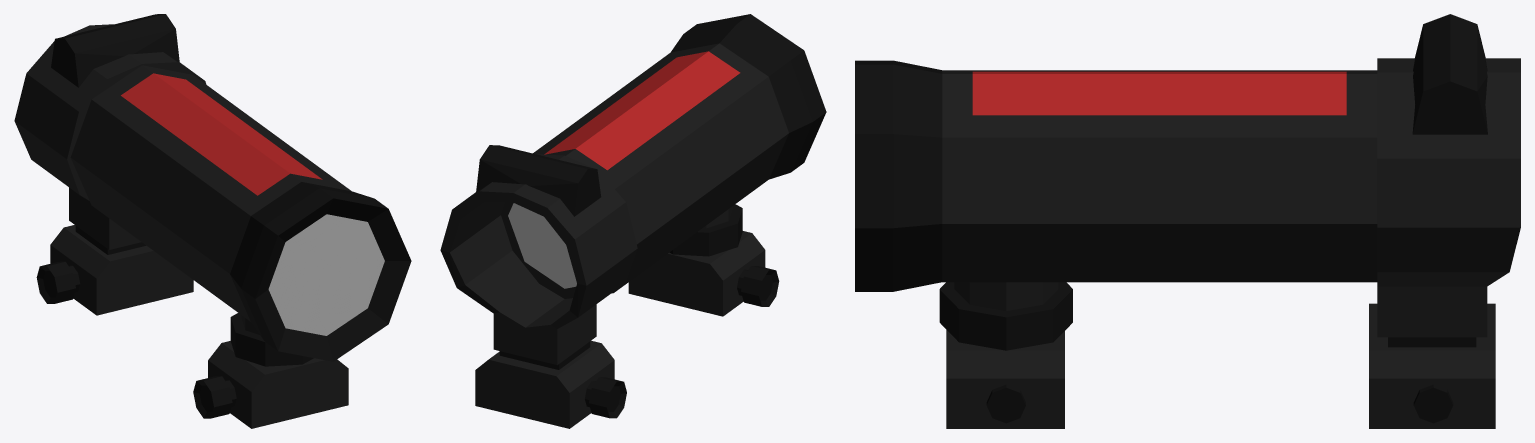
The model's file is scene_kIM5OAdM7h.glb.
3 views of the same model, side by side, from view 1: azimuth 30°, elevation 25°; view 2: azimuth 150°, elevation 25°; view 3: azimuth 270°, elevation 25° (orthographic). The views are drawn at different scales.
Parts seen in each view (by area): view 1: Magnified_East; view 2: Magnified_East; view 3: Magnified_East.
Part boxes in pixels (x1,y1,x2,y2): Magnified_East: [14, 14, 411, 428]; Magnified_East: [440, 14, 826, 428]; Magnified_East: [855, 14, 1520, 428].
Bounding box in the file's own units: 0.0451 × 0.0705 × 0.122.
